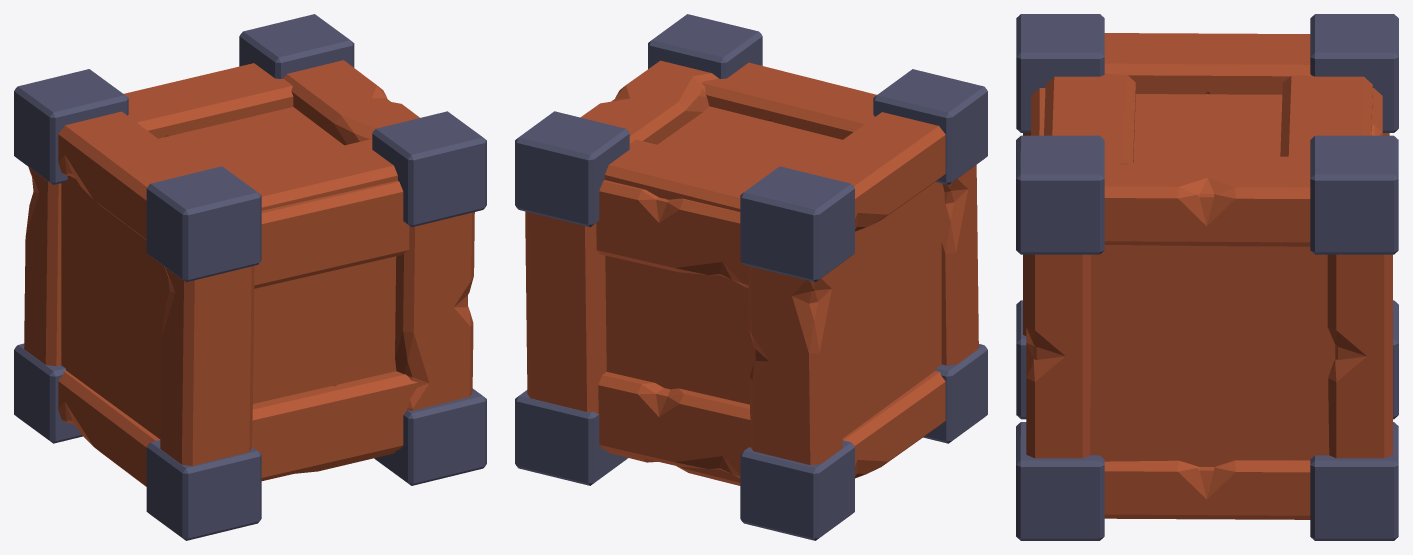
File: crate.fbx
3 views of the same model, side by side, from view 1: azimuth 30°, elevation 25°; view 2: azimuth 150°, elevation 25°; view 3: azimuth 270°, elevation 25° (orthographic). The views are drawn at different scales.
Parts seen in each view (by area): view 1: Cube.026, Cube.022, Cube.027; view 2: Cube.026, Cube.022, Cube.027; view 3: Cube.026, Cube.027, Cube.022.
Boxes of the visible parts, bbox=[...] form: Cube.026: bbox=[24, 60, 474, 486]; Cube.022: bbox=[14, 14, 486, 540]; Cube.027: bbox=[61, 107, 396, 438]; Cube.026: bbox=[525, 60, 978, 485]; Cube.022: bbox=[515, 14, 987, 540]; Cube.027: bbox=[605, 106, 944, 438]; Cube.026: bbox=[1023, 33, 1392, 519]; Cube.027: bbox=[1090, 94, 1335, 466]; Cube.022: bbox=[1016, 14, 1398, 540].
Bounding box in the file's own units: 309 × 321 × 304.
